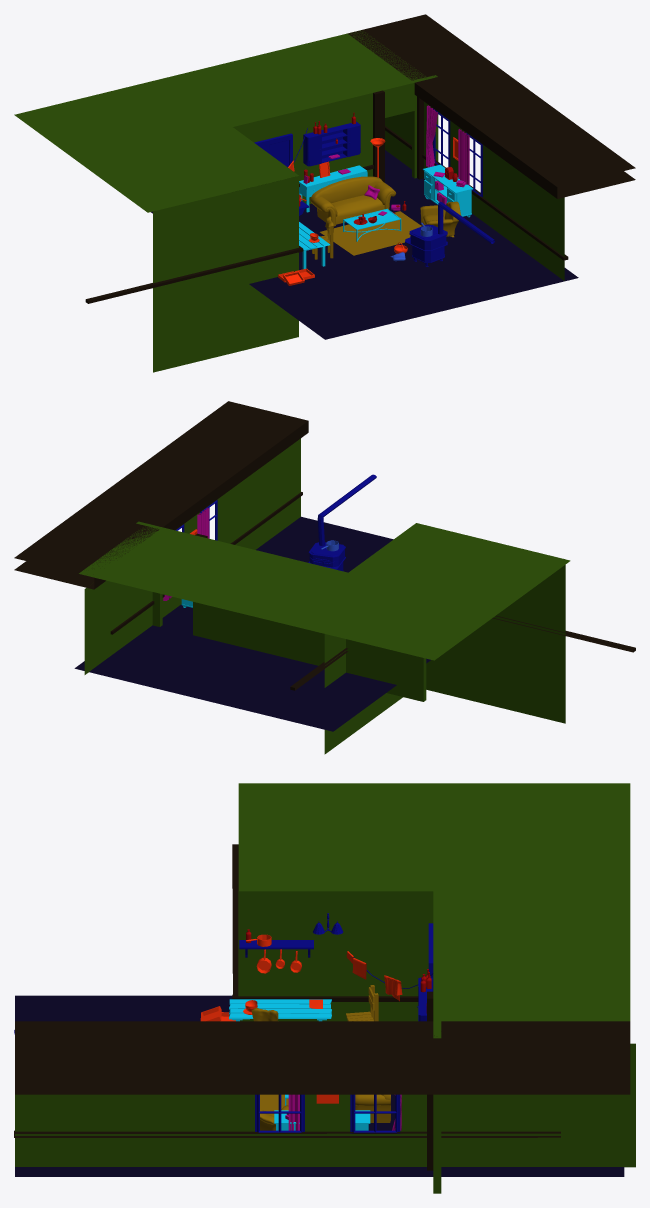
The model's file is MAISONABIGAIL_Pack (8).FBX.
The picture shows the model from 3 angles, top to bottom: view 1: azimuth 30°, elevation 25°; view 2: azimuth 150°, elevation 25°; view 3: azimuth 270°, elevation 25°; orthographic projection. The views are drawn at different scales.
Visible parts, largest first — view 1: plafond_fond, mur_gauche, sol, plafond_fenetre, mur_fenetre, mur_fond, canap_simple, Plane007, etagere_complexe, Box004, Box001 (×2), commode_basique (+9 smaller); view 2: plafond_fond, plafond_fenetre, sol, mur_gauche, mur_fenetre, mur_fond, Box004, Box029, Box009; view 3: plafond_fond, plafond_fenetre, mur_fenetre, mur_gauche, sol, mur_fond, Box009, Box001, Box029, Box027, Plane017, canap_simple (+2 smaller).
Boxes of the visible parts, x1,y1,x2,y2 form: plafond_fond: (14, 30, 425, 212); mur_gauche: (153, 176, 298, 372); sol: (151, 150, 578, 339); plafond_fenetre: (347, 14, 635, 198); mur_fenetre: (385, 101, 564, 280); mur_fond: (154, 75, 438, 204); canap_simple: (310, 176, 396, 226); Plane007: (320, 211, 421, 255); etagere_complexe: (303, 121, 360, 166); Box004: (405, 201, 494, 266); Box001 (×2): (299, 208, 401, 269); commode_basique: (422, 164, 473, 217); plafond_fond: (79, 523, 570, 660); plafond_fenetre: (14, 401, 308, 589); sol: (74, 516, 430, 731); mur_gauche: (324, 565, 565, 754); mur_fenetre: (84, 438, 300, 674); mur_fond: (136, 521, 426, 701); Box004: (308, 474, 376, 571); Box029: (492, 615, 635, 652); Box009: (110, 492, 302, 634); plafond_fond: (238, 783, 630, 1021); plafond_fenetre: (15, 1021, 630, 1094); mur_fenetre: (15, 1043, 635, 1167); mur_gauche: (238, 891, 433, 1021); sol: (15, 995, 624, 1176); mur_fond: (433, 836, 441, 1193); Box009: (14, 1130, 560, 1137); Box001: (229, 999, 331, 1021); Box029: (232, 844, 238, 997); Box027: (232, 994, 418, 1001); Plane017: (350, 1094, 400, 1133); canap_simple: (355, 1094, 390, 1122).
Bounding box in the file's own units: 9158 × 2976 × 7114.
